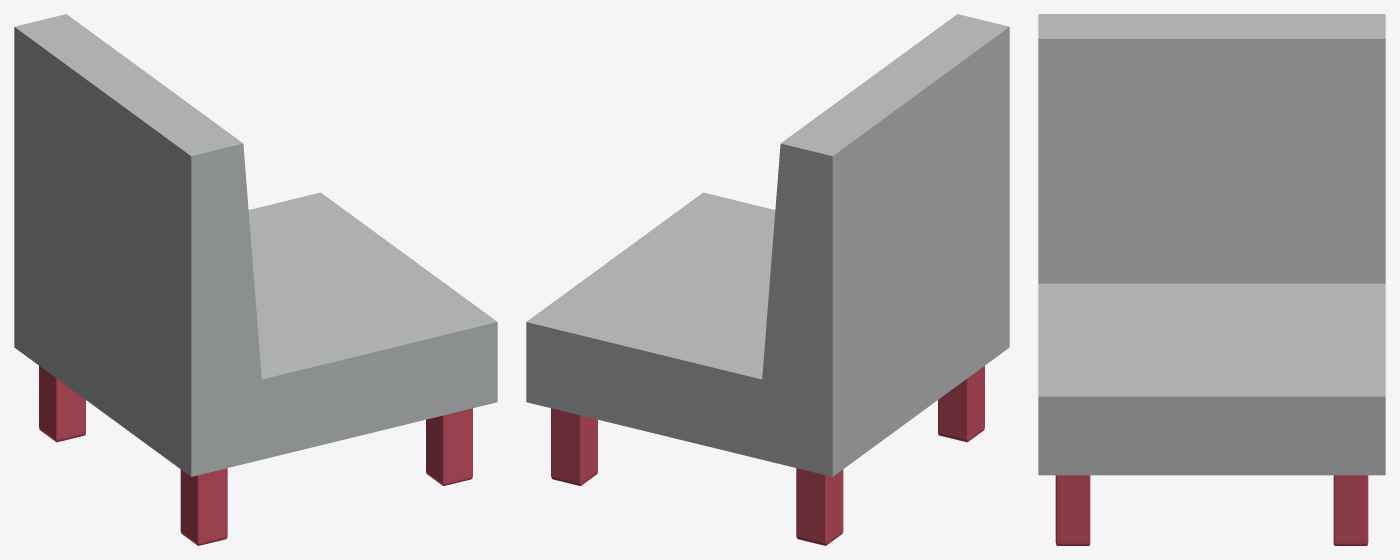
The model's file is Daring Jarv.glb.
3 renders of one model, left to right at view 1: azimuth 30°, elevation 25°; view 2: azimuth 150°, elevation 25°; view 3: azimuth 270°, elevation 25°, orthographic.
Visible parts, largest first — view 1: Mesh_Mesh_head_geo.001_lambert2SG.001; view 2: Mesh_Mesh_head_geo.001_lambert2SG.001; view 3: Mesh_Mesh_head_geo.001_lambert2SG.001.
Part boxes in pixels (x1,y1,x2,y2): Mesh_Mesh_head_geo.001_lambert2SG.001: (14,14,497,545); Mesh_Mesh_head_geo.001_lambert2SG.001: (526,14,1009,545); Mesh_Mesh_head_geo.001_lambert2SG.001: (1038,14,1385,545).
Bounding box in the file's own units: 20 × 25 × 20.
